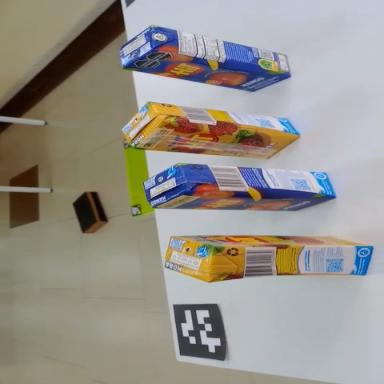HIT-MANGO: (117, 20, 295, 102), (142, 161, 338, 219)
HIT-MORA: (124, 101, 302, 165), (166, 236, 380, 283)
cara_F: (122, 44, 292, 101), (135, 118, 301, 166), (153, 189, 336, 215), (173, 236, 371, 247)
